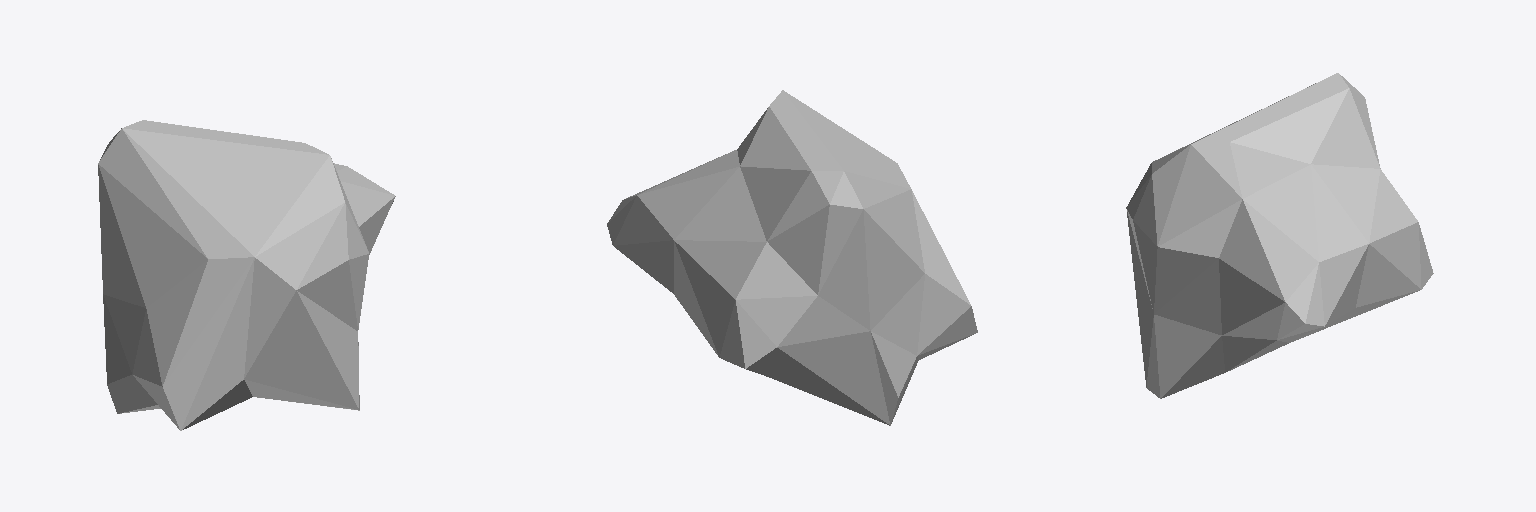
Rendered from ast3.obj.
3 renders of one model, left to right at view 1: azimuth 30°, elevation 25°; view 2: azimuth 150°, elevation 25°; view 3: azimuth 270°, elevation 25°, orthographic.
Parts seen in each view (by area): view 1: asteroid.001_Icosphere; view 2: asteroid.001_Icosphere; view 3: asteroid.001_Icosphere.
Boxes of the visible parts, x1=… form: asteroid.001_Icosphere: x1=98, y1=120, x2=395, y2=430; asteroid.001_Icosphere: x1=607, y1=90, x2=977, y2=425; asteroid.001_Icosphere: x1=1126, y1=73, x2=1433, y2=398.
Bounding box in the file's own units: 3.25 × 2.76 × 2.91.